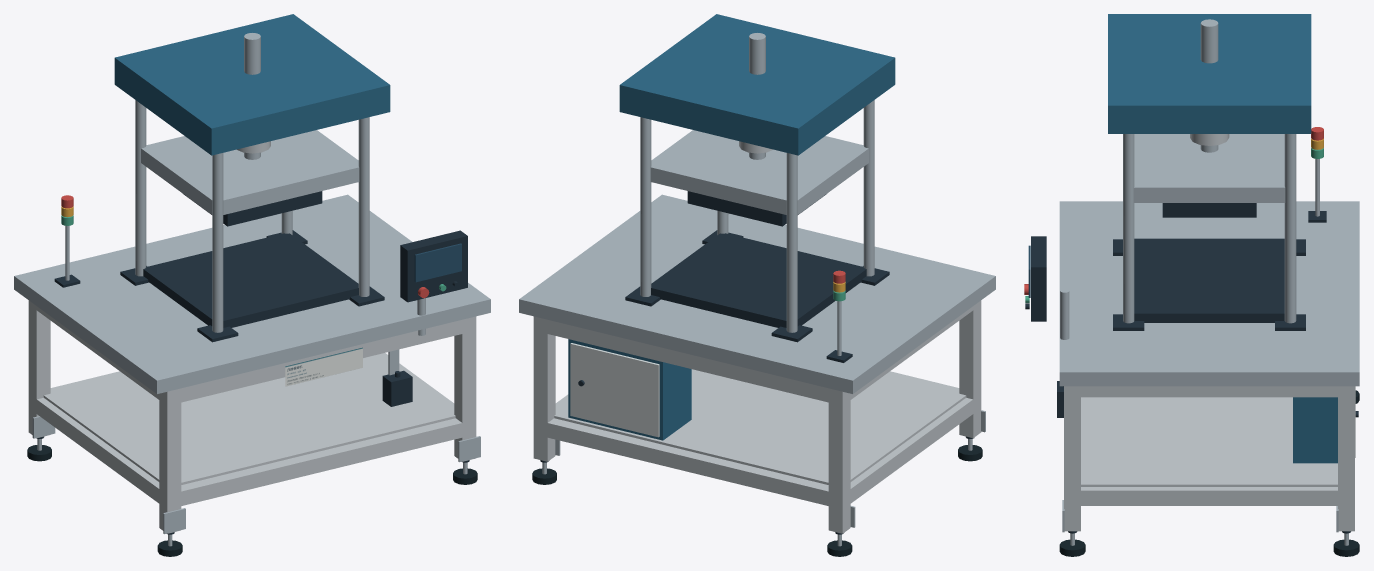
File: compression-mold-cell.glb
3 views of the same model, side by side, from view 1: azimuth 30°, elevation 25°; view 2: azimuth 150°, elevation 25°; view 3: azimuth 270°, elevation 25° (orthographic). The views are drawn at different scales.
Parts seen in each view (by area): view 1: ClosedMachineBed_28, LowerShelf_29, PressCrown_56, LowerDie_61, ToolPlate_58, SlottedExtrusion_22, SlottedExtrusion_23, SlottedExtrusion_8, SlottedExtrusion_24, ConsoleBack_34, SlottedExtrusion_18, SlottedExtrusion_3 (+9 smaller); view 2: ClosedMachineBed_28, PressCrown_56, LowerShelf_29, LowerDie_61, ToolPlate_58, BackDoor_31, SlottedExtrusion_20, SlottedExtrusion_21, SlottedExtrusion_3, Cabinet_30, SlottedExtrusion_13, SlottedExtrusion_24 (+7 smaller); view 3: ClosedMachineBed_28, PressCrown_56, LowerShelf_29, LowerDie_61, ToolPlate_58, SlottedExtrusion_26, SlottedExtrusion_27, Cabinet_30, SlottedExtrusion_13, SlottedExtrusion_18, GuideColumn_52, GuideColumn_54 (+4 smaller).
Part boxes in pixels (x1,y1,x2,y2): ClosedMachineBed_28: (14,194,490,393); LowerShelf_29: (43,354,455,484); PressCrown_56: (114,14,390,155); LowerDie_61: (143,233,358,327); ToolPlate_58: (141,130,359,214); SlottedExtrusion_22: (175,418,469,507); SlottedExtrusion_23: (174,318,469,402); SlottedExtrusion_8: (159,388,181,533); SlottedExtrusion_24: (33,397,159,503); ConsoleBack_34: (400,230,467,302); SlottedExtrusion_18: (454,316,476,461); SlottedExtrusion_3: (28,300,50,437); ClosedMachineBed_28: (519,194,995,393); PressCrown_56: (619,14,895,155); LowerShelf_29: (554,369,966,484); LowerDie_61: (651,233,866,327); ToolPlate_58: (650,130,868,214); BackDoor_31: (570,343,659,437); SlottedExtrusion_20: (540,418,835,507); SlottedExtrusion_21: (540,318,835,402); SlottedExtrusion_3: (828,388,850,533); Cabinet_30: (568,339,691,440); SlottedExtrusion_13: (533,316,555,461); SlottedExtrusion_24: (849,397,976,503); ClosedMachineBed_28: (1059,201,1359,386); PressCrown_56: (1108,14,1311,133); LowerShelf_29: (1081,397,1337,486); LowerDie_61: (1134,238,1284,322); ToolPlate_58: (1133,134,1285,202); SlottedExtrusion_26: (1072,487,1346,505); SlottedExtrusion_27: (1072,386,1346,397); Cabinet_30: (1293,397,1337,463); SlottedExtrusion_13: (1338,386,1354,531); SlottedExtrusion_18: (1064,386,1080,531); GuideColumn_52: (1284,134,1296,323); GuideColumn_54: (1123,134,1134,323).
Bounding box in the file's own units: 1.55 × 1.91 × 1.29.
Materials: 11 (1 with a texture image).
